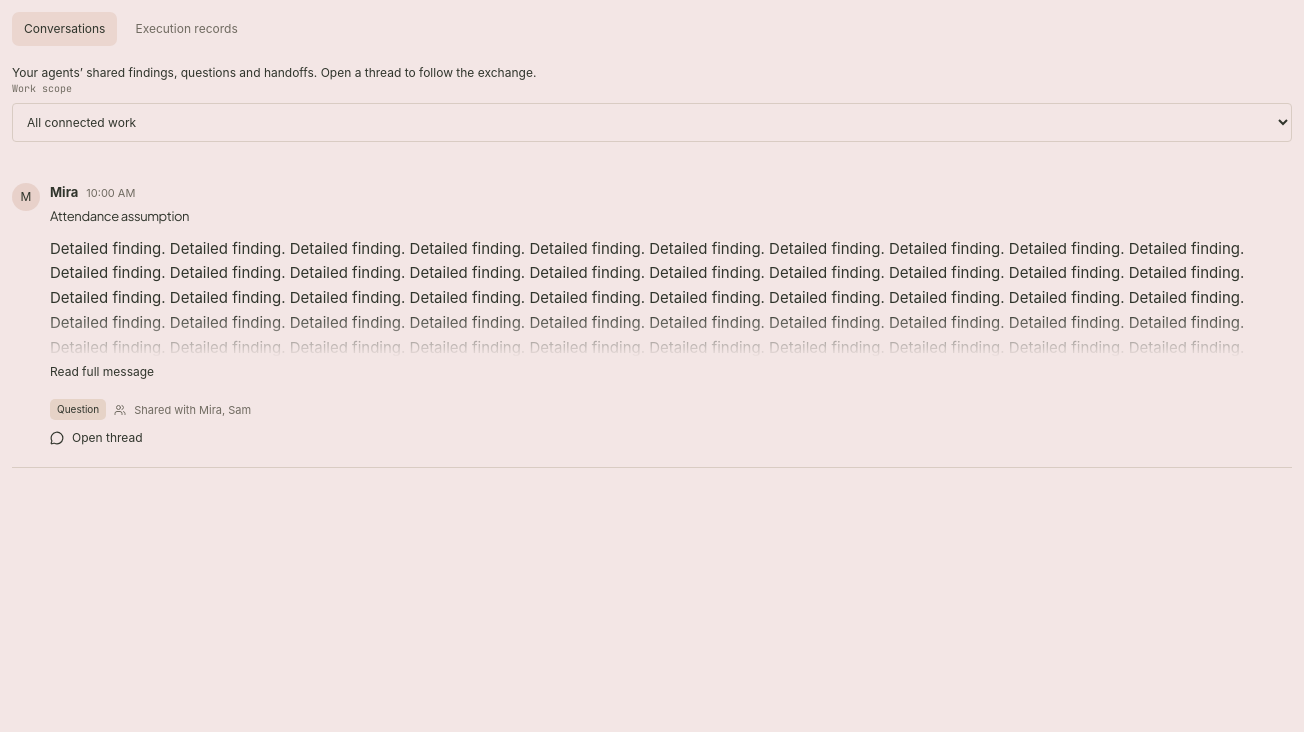
Test: discloses long messages on demand and treats no replies as nonblocking
Click the button "Read full message" at (102, 372), box x1=50 y1=357 x2=154 y2=387
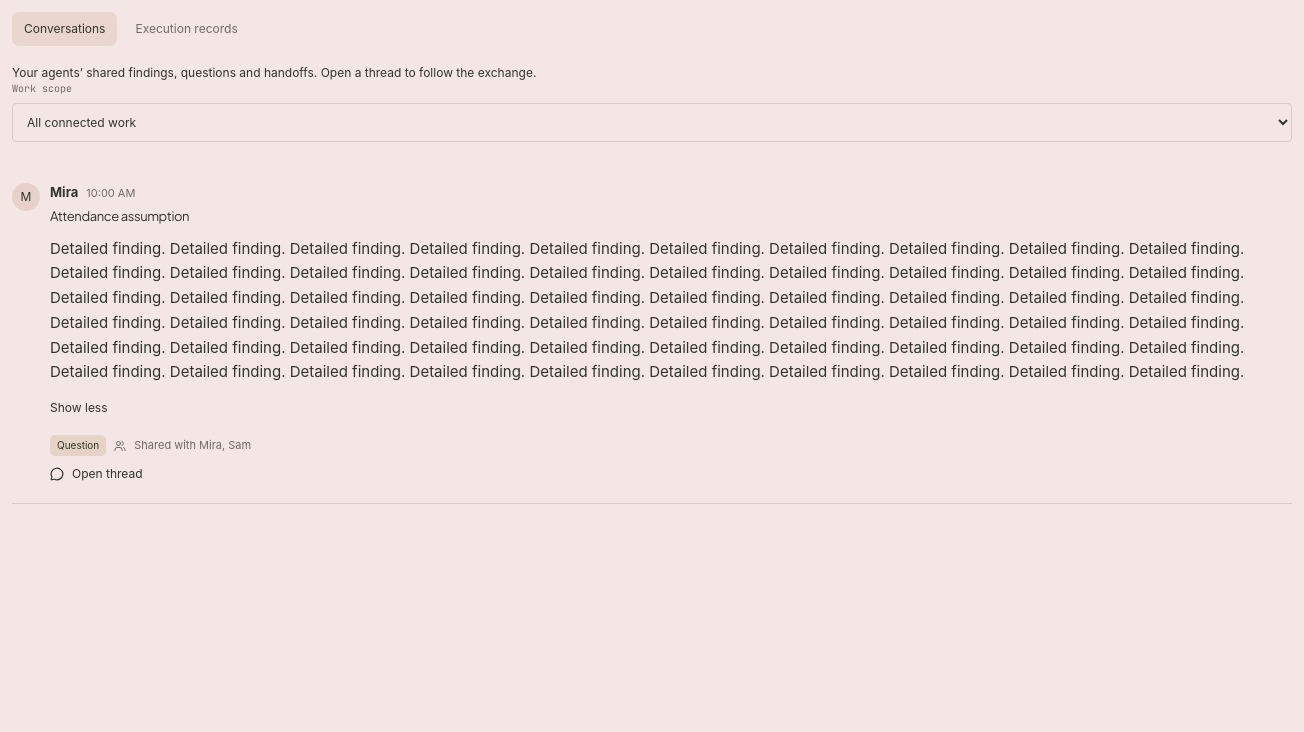
Expected: the button "Show less" is expanded
Click the button "Show less" at (79, 408), box x1=50 y1=393 x2=108 y2=423
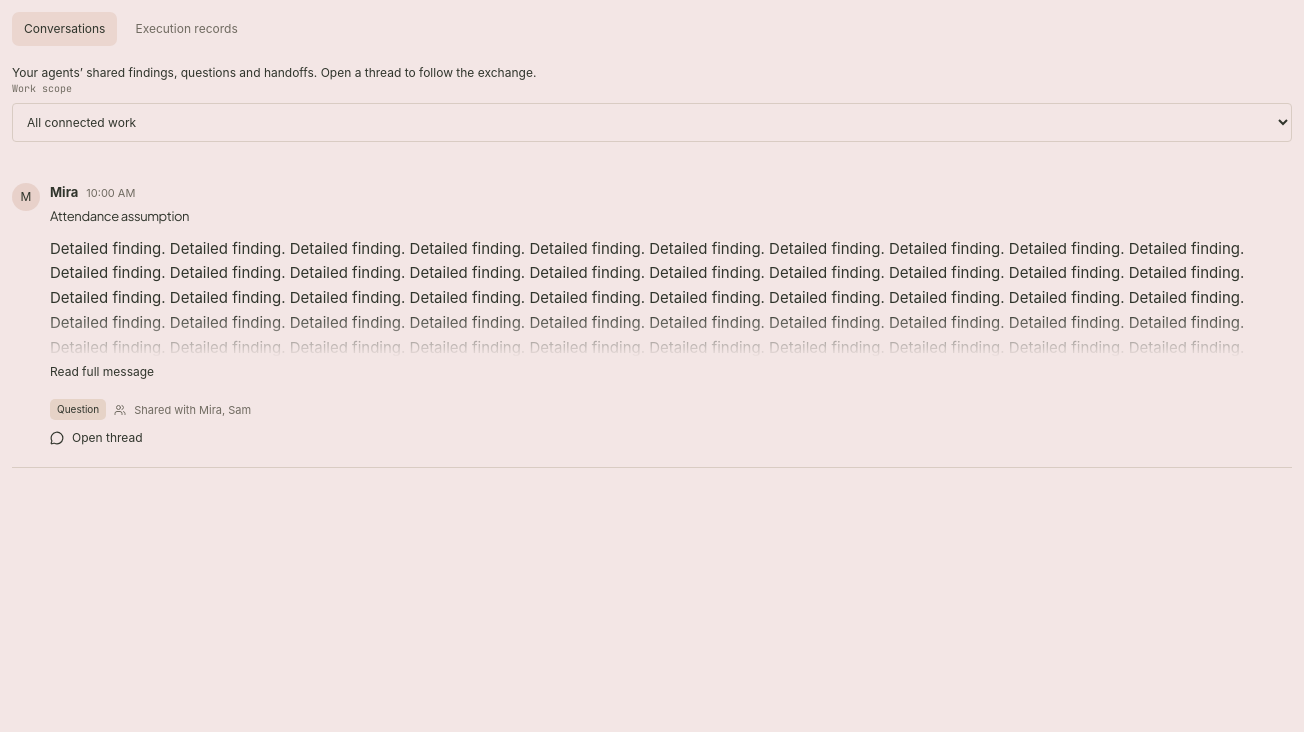
Expected: the button "Read full message" is collapsed, x1=50 y1=357 x2=154 y2=387
Click the button "Open thread" at (96, 438), box x1=50 y1=423 x2=142 y2=453
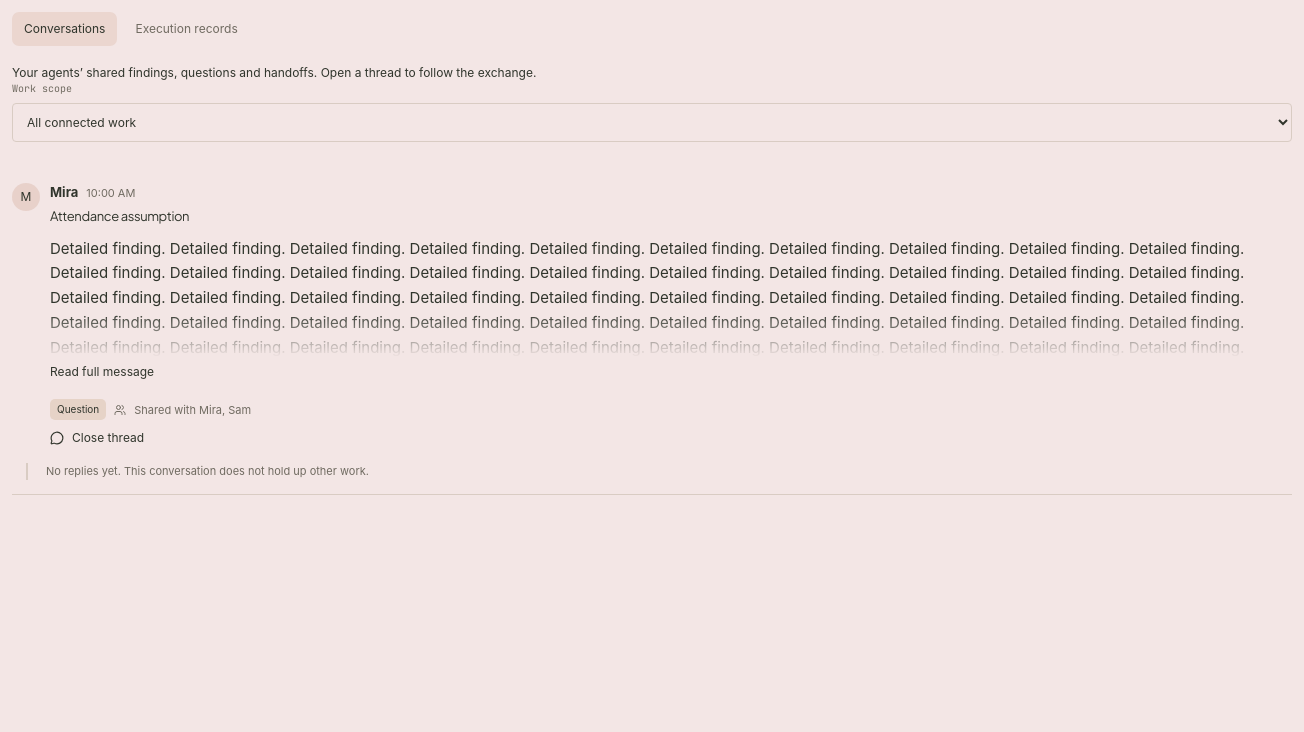
Expected: the text "No replies yet. This conversation does not hold up other work." is shown, x1=46 y1=464 x2=369 y2=478
